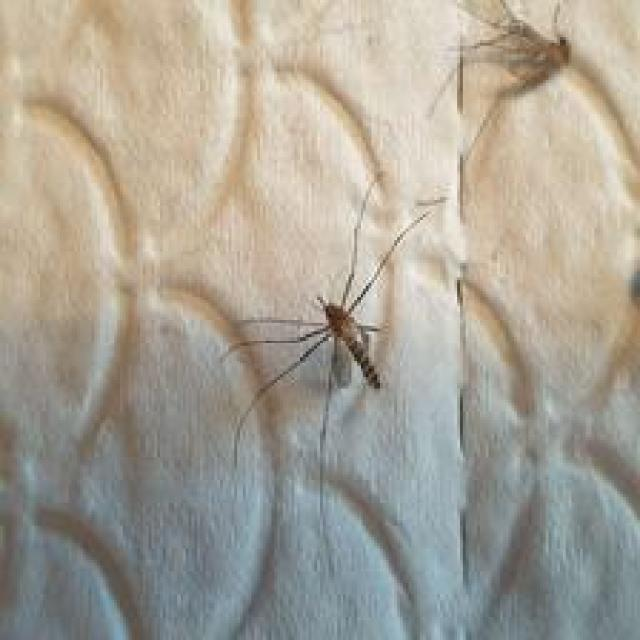Culex: (216, 174, 447, 463)
